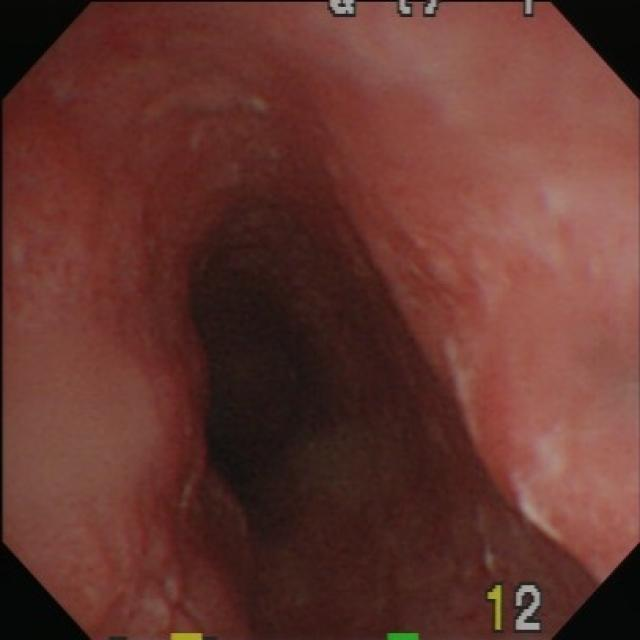B: (105, 307, 270, 631)
E: (187, 258, 353, 484)
J: (424, 177, 578, 299), (514, 424, 574, 538), (446, 338, 492, 448), (144, 89, 278, 123)
S: (325, 3, 545, 20), (485, 581, 547, 636)
